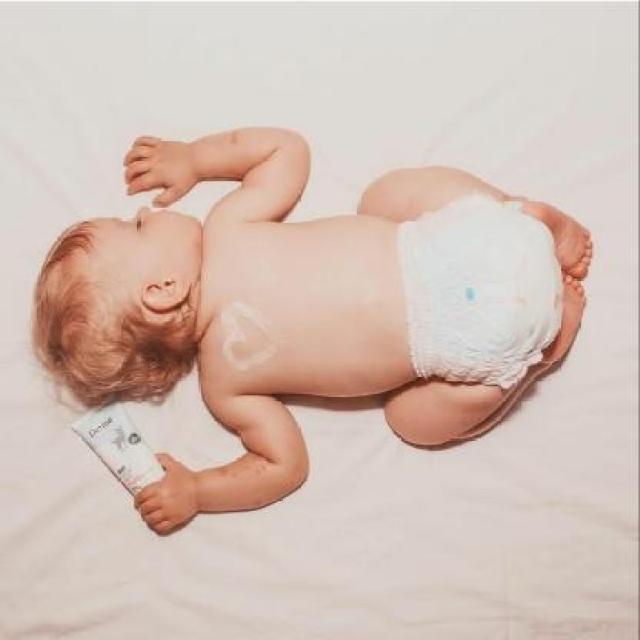baby: (31, 125, 591, 532)
